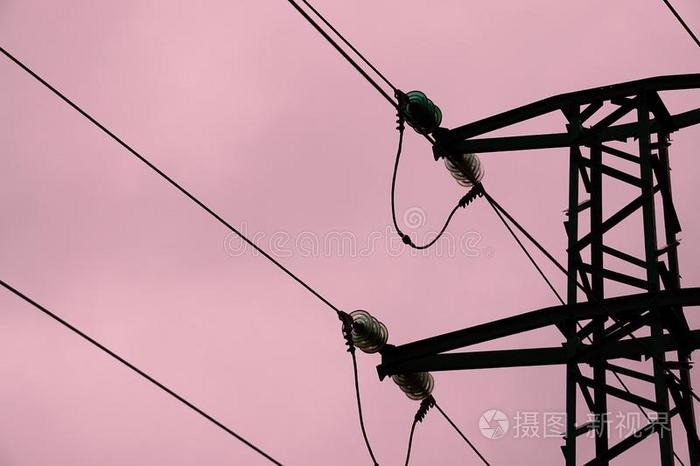insulator: (398, 92, 446, 136), (341, 309, 389, 352), (392, 368, 439, 400), (445, 152, 487, 186)
